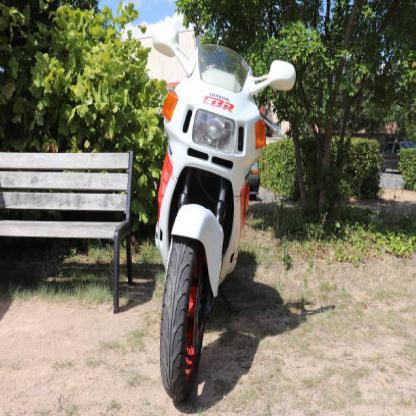Motorcycle: (138, 15, 297, 415)
